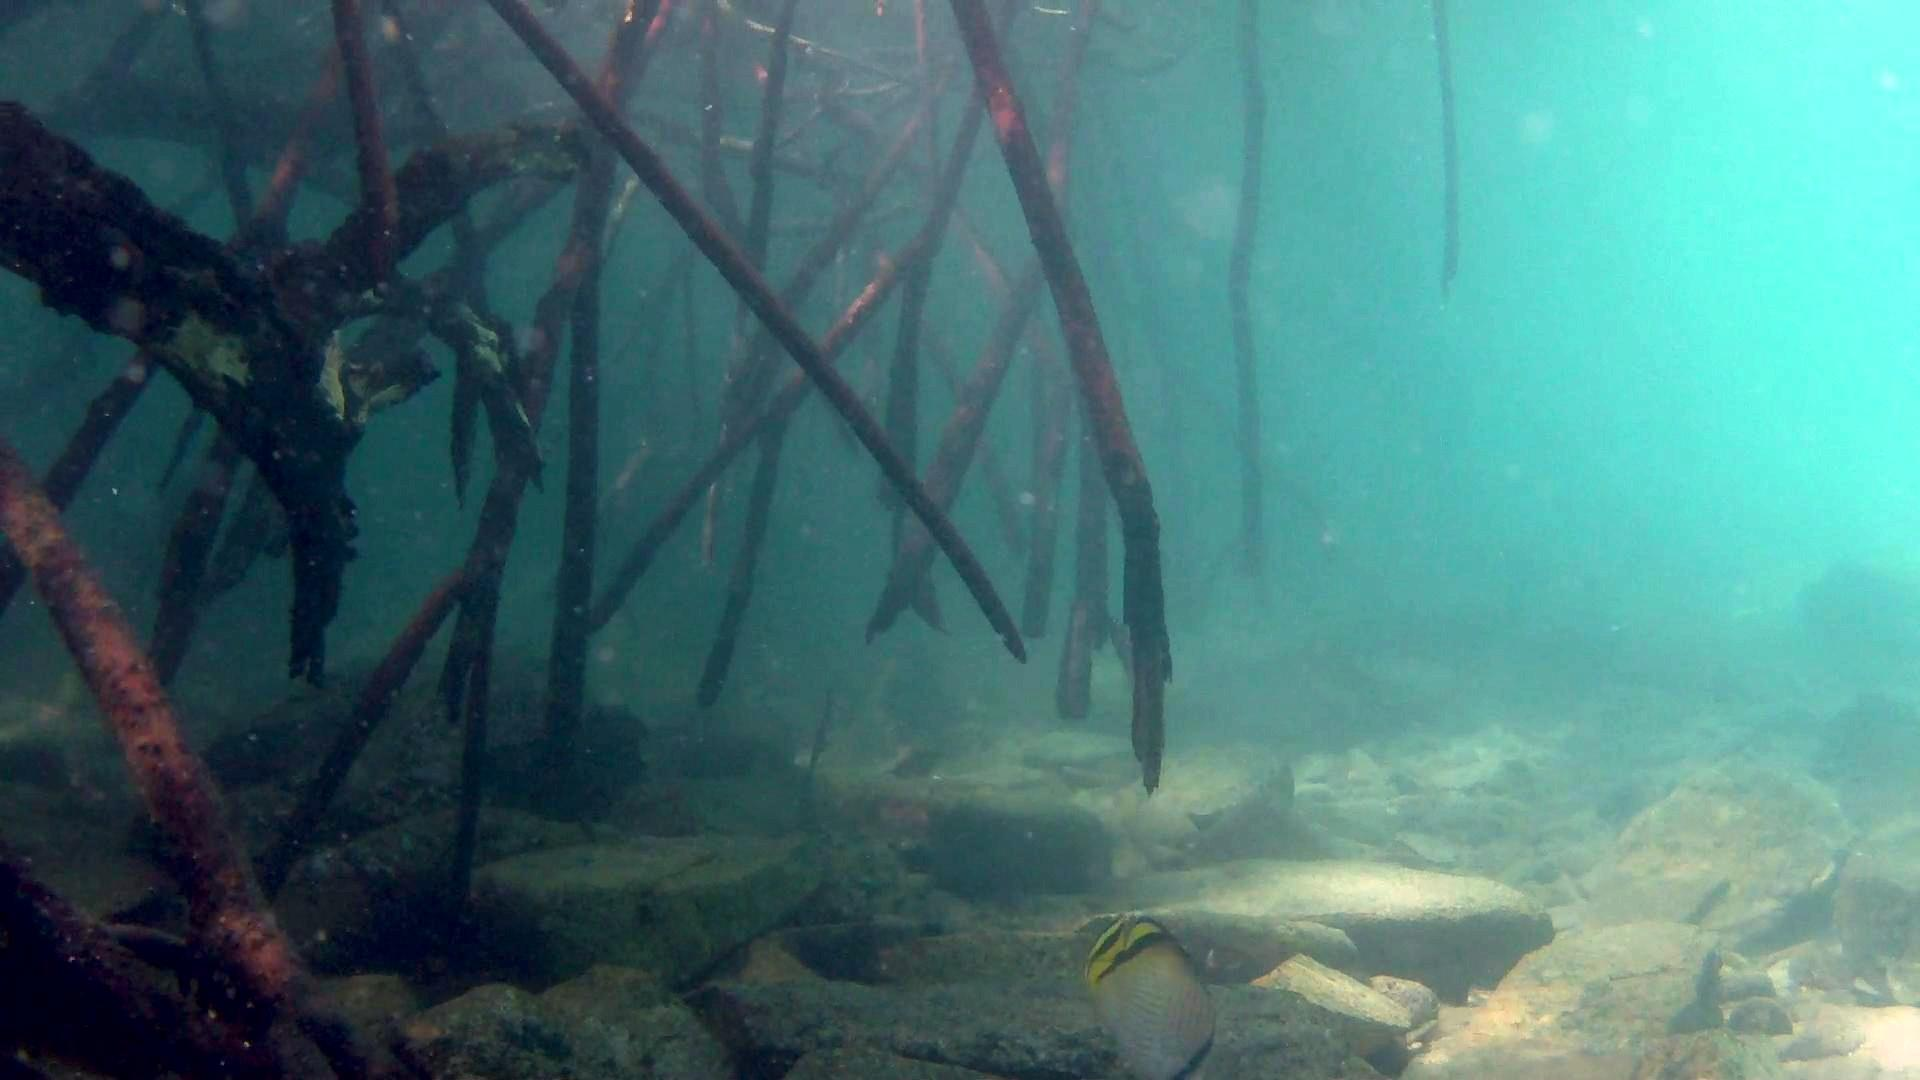chaetodon vagabundus: (1079, 910, 1222, 1080)
